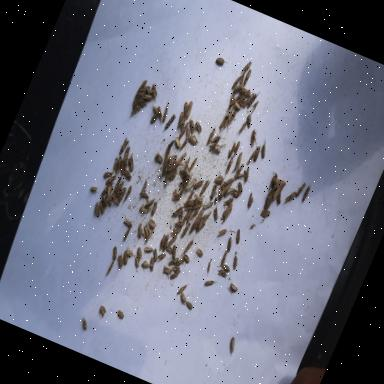pbw: (223, 107, 239, 134), (198, 174, 214, 198), (231, 150, 247, 174), (158, 99, 173, 124), (146, 82, 162, 104), (161, 112, 176, 135), (245, 88, 260, 111), (238, 166, 255, 186), (207, 132, 224, 152), (224, 336, 239, 358), (172, 111, 186, 134), (151, 105, 167, 125), (116, 136, 131, 157), (256, 137, 270, 159), (122, 154, 138, 173), (282, 188, 297, 208), (177, 100, 191, 121), (240, 66, 253, 88), (231, 162, 244, 184), (173, 150, 187, 170), (130, 254, 144, 274), (221, 100, 234, 121), (190, 120, 205, 138), (175, 280, 189, 299), (223, 154, 235, 176), (218, 180, 231, 200), (242, 90, 255, 110), (95, 201, 110, 218), (222, 184, 236, 202), (90, 201, 104, 219), (226, 138, 238, 159), (218, 208, 231, 227), (249, 145, 262, 164), (294, 181, 306, 201), (137, 178, 149, 198), (177, 120, 189, 140), (245, 148, 257, 168), (232, 181, 246, 198), (213, 268, 230, 282), (144, 256, 157, 274), (112, 252, 125, 270), (230, 81, 243, 99), (207, 183, 219, 202), (183, 100, 195, 119), (120, 224, 132, 243), (156, 234, 168, 253), (186, 157, 198, 176), (300, 184, 312, 203), (158, 264, 172, 280), (122, 245, 138, 259), (180, 162, 194, 178), (202, 276, 218, 290), (201, 195, 214, 212), (205, 128, 216, 148), (120, 145, 132, 163), (100, 180, 112, 198), (176, 138, 188, 156), (109, 156, 121, 174), (244, 191, 256, 209), (246, 98, 258, 116), (116, 157, 128, 175), (136, 78, 148, 96), (144, 226, 156, 244), (220, 202, 232, 220), (224, 282, 238, 297), (176, 170, 191, 184), (216, 116, 228, 133), (223, 237, 235, 254), (180, 208, 192, 225), (189, 205, 201, 222), (231, 74, 242, 92), (218, 250, 229, 268), (186, 134, 200, 148), (176, 292, 190, 306), (190, 247, 204, 261), (213, 171, 226, 186), (152, 151, 165, 166), (96, 305, 109, 320), (185, 120, 197, 136), (242, 114, 254, 130), (116, 184, 128, 200), (148, 248, 160, 264), (166, 233, 178, 249), (104, 172, 116, 188), (185, 176, 197, 192), (240, 59, 252, 75), (134, 222, 146, 238), (115, 179, 127, 195), (168, 242, 180, 258), (119, 250, 131, 266), (180, 128, 192, 144), (108, 245, 120, 261), (180, 221, 190, 240), (148, 200, 159, 217), (170, 217, 184, 230), (238, 86, 252, 99), (168, 192, 181, 206), (210, 206, 222, 221), (134, 247, 146, 262), (230, 140, 240, 158), (128, 104, 140, 119), (202, 262, 213, 278), (104, 261, 114, 278), (123, 185, 133, 202), (177, 117, 187, 134), (138, 260, 150, 274), (192, 178, 204, 192), (168, 268, 180, 282), (223, 174, 235, 188), (144, 218, 158, 230), (78, 317, 90, 331), (139, 225, 151, 239), (229, 256, 240, 271), (104, 184, 114, 200), (112, 178, 122, 194), (106, 193, 116, 209), (236, 120, 246, 136), (232, 228, 242, 244), (184, 190, 194, 206), (178, 253, 191, 265), (192, 193, 204, 206), (120, 169, 132, 182), (228, 188, 240, 201), (172, 205, 184, 218), (166, 255, 178, 268), (144, 196, 155, 210), (214, 56, 228, 67), (120, 216, 132, 228), (216, 226, 227, 239), (178, 176, 188, 190), (163, 244, 174, 256), (155, 252, 165, 265), (222, 196, 232, 209), (179, 181, 188, 195), (110, 196, 121, 207), (140, 92, 152, 102), (234, 172, 244, 184), (138, 206, 149, 216), (184, 301, 194, 312), (114, 310, 125, 320), (142, 244, 152, 255), (260, 208, 270, 219), (275, 194, 284, 206), (102, 170, 112, 180), (149, 104, 159, 114), (212, 144, 222, 154), (237, 74, 245, 86), (233, 101, 242, 111), (88, 186, 98, 195), (220, 264, 230, 273), (142, 192, 150, 202)
